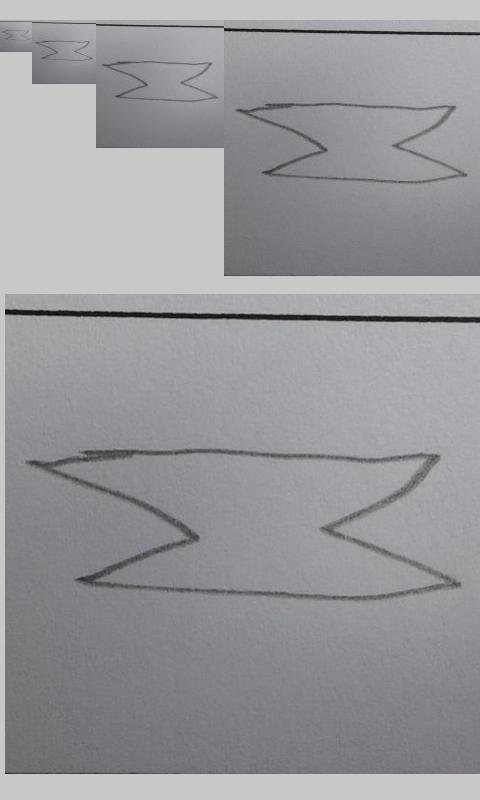edit_text: (29, 446, 453, 605), (240, 101, 466, 185), (102, 59, 216, 102), (36, 40, 92, 62), (2, 29, 30, 41)
